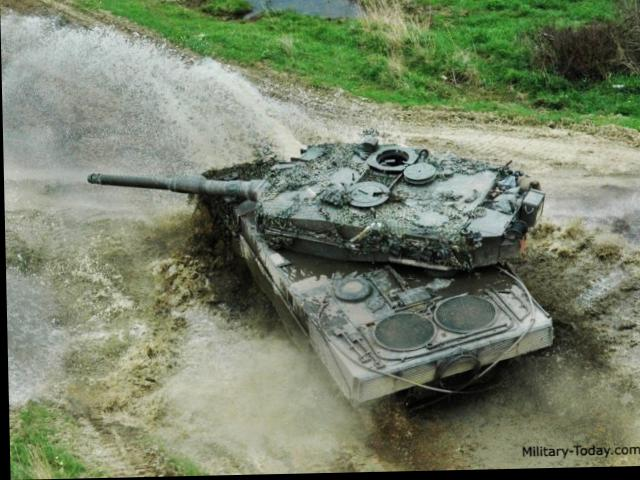other: (182, 121, 540, 408)
